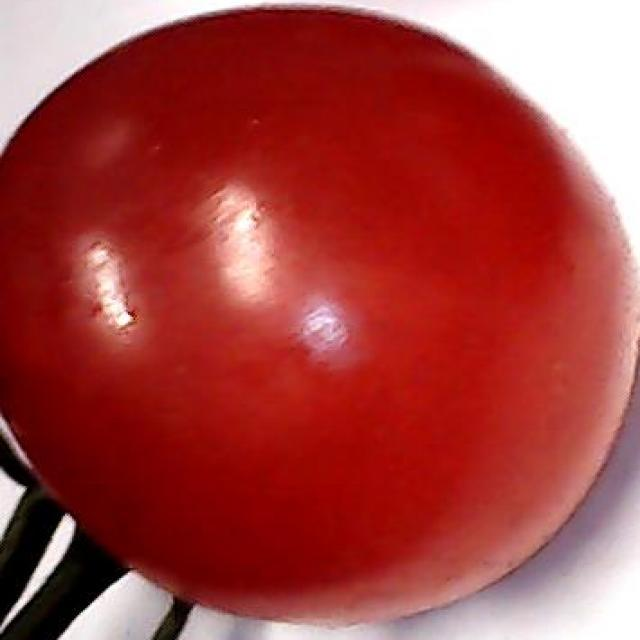Healthy: (2, 0, 638, 627)
